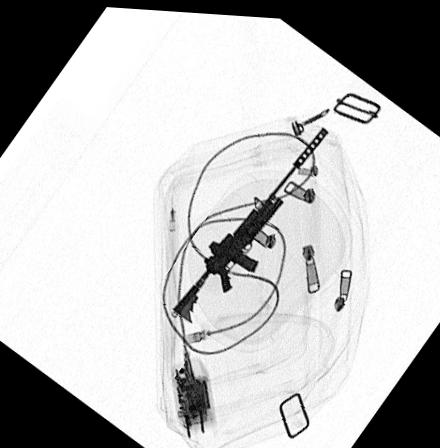Gun: (169, 116, 330, 321)
